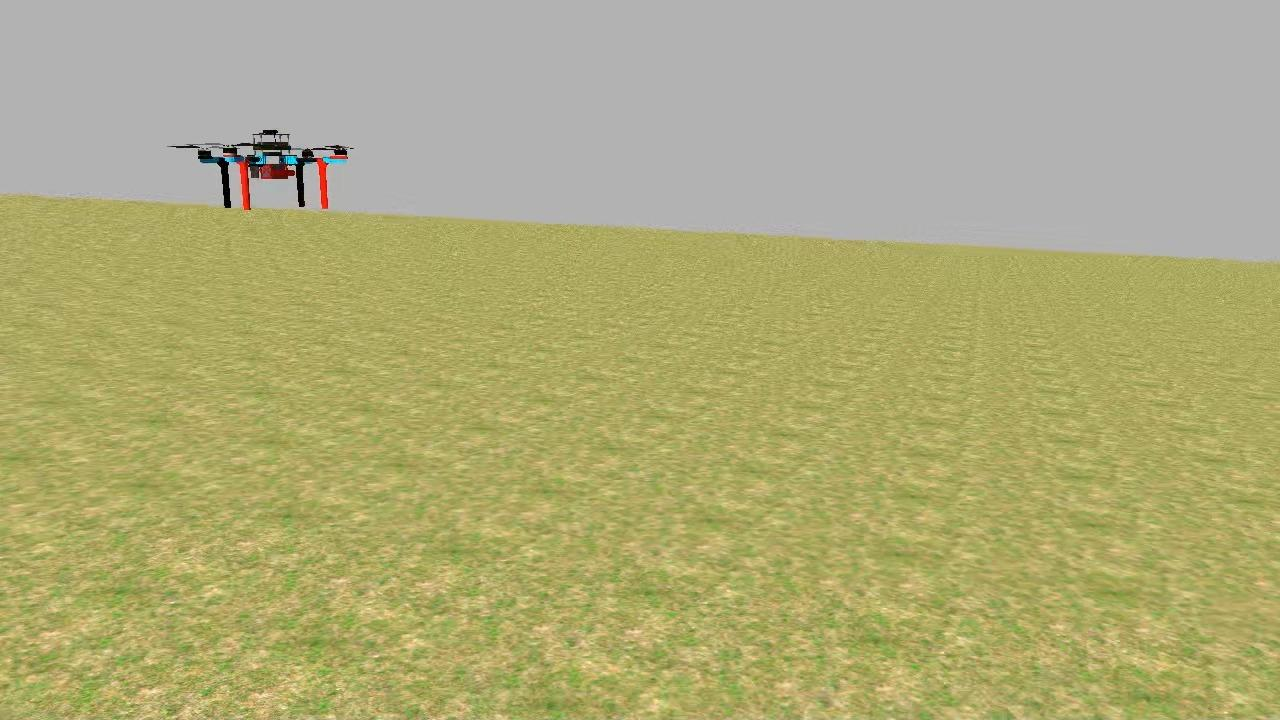UAV: (184, 126, 356, 218)
